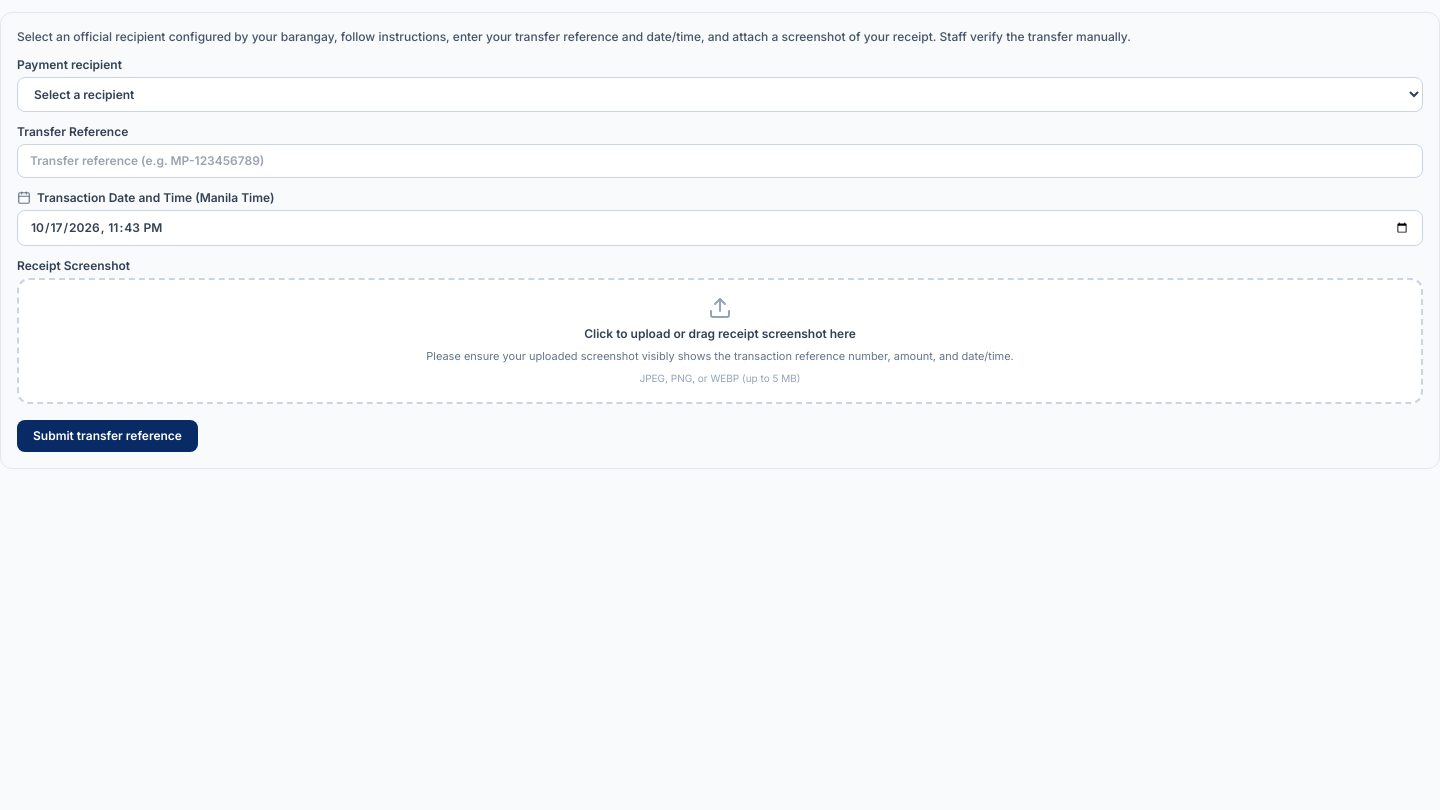
Scenario: PaymentReferenceForm › displays recipient details card when a recipient is selected
Select "Barangay GCash Hub · GCash" in the dropdown named "Payment recipient for request 42" at x=720, y=94, box [17,77,1423,112]
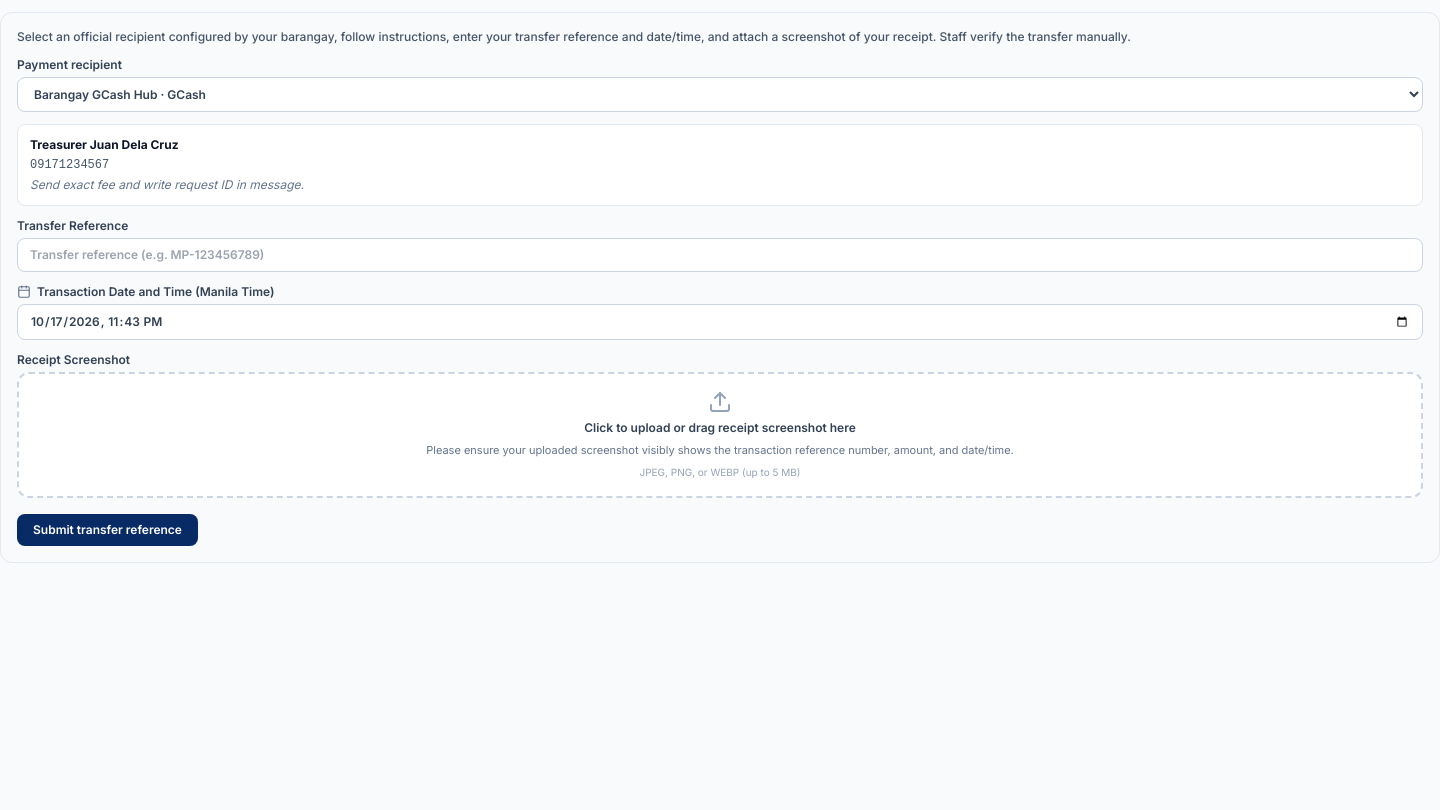
Expected: the text "Treasurer Juan Dela Cruz" is shown, [30,137,179,152]
Expected: the text "09171234567" is shown, [30,158,109,172]
Expected: the text "Send exact fee and write request ID in message." is shown, [30,177,304,192]
